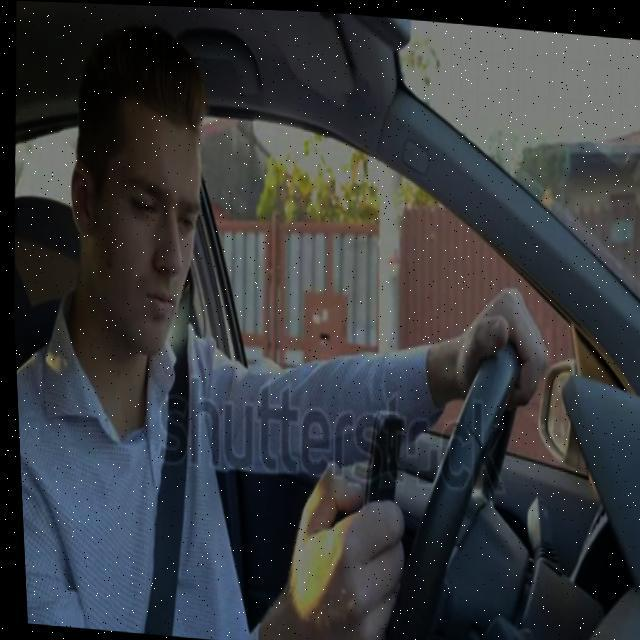PhoneCall: (354, 400, 408, 556)
